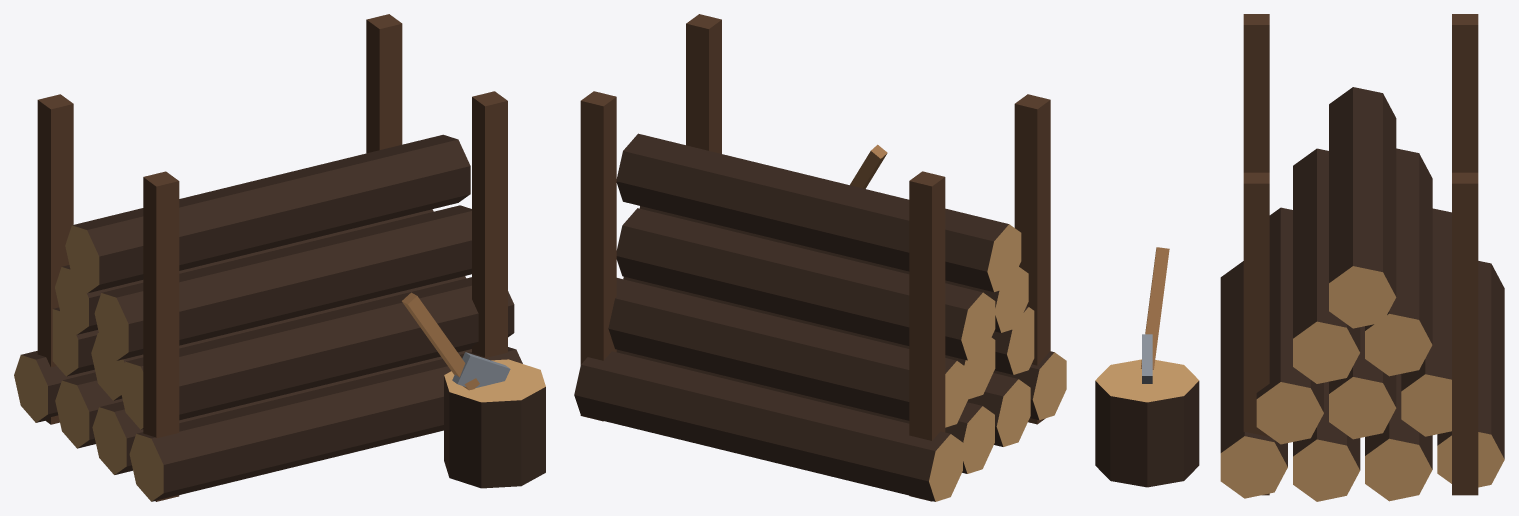
The model's file is bld_woodpile_1x1.glb.
The picture shows the model from 3 angles, left to right: view 1: azimuth 30°, elevation 25°; view 2: azimuth 150°, elevation 25°; view 3: azimuth 270°, elevation 25°; orthographic projection.
Visible parts, largest first — view 1: bld_woodpile_1x1; view 2: bld_woodpile_1x1; view 3: bld_woodpile_1x1.
Boxes of the visible parts, bbox=[...] form: bld_woodpile_1x1: bbox=[14, 14, 545, 501]; bld_woodpile_1x1: bbox=[574, 14, 1066, 501]; bld_woodpile_1x1: bbox=[1095, 14, 1504, 501].
Bounding box in the file's own units: 0.835 × 0.66 × 0.7861.
Materials: 1 (1 with a texture image).
